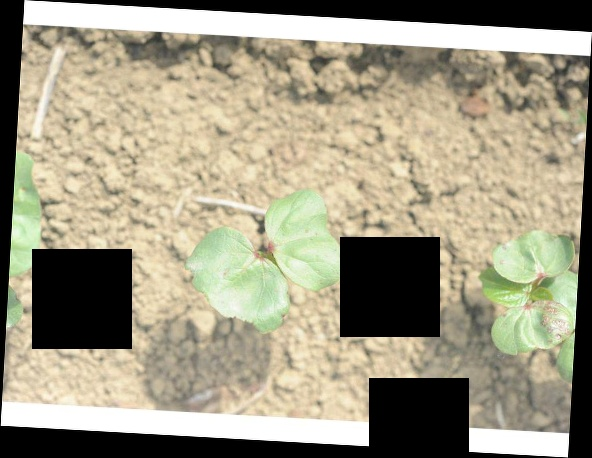cotton: (185, 186, 345, 335), (478, 226, 577, 381)
